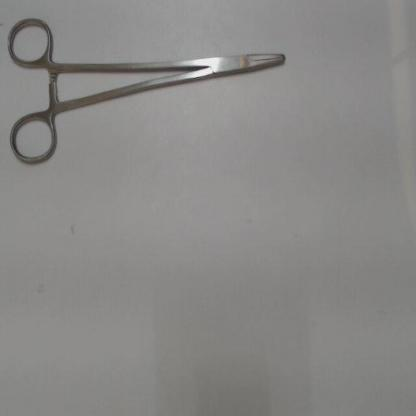8 Mayo Needle Holder: (2, 10, 298, 172)
